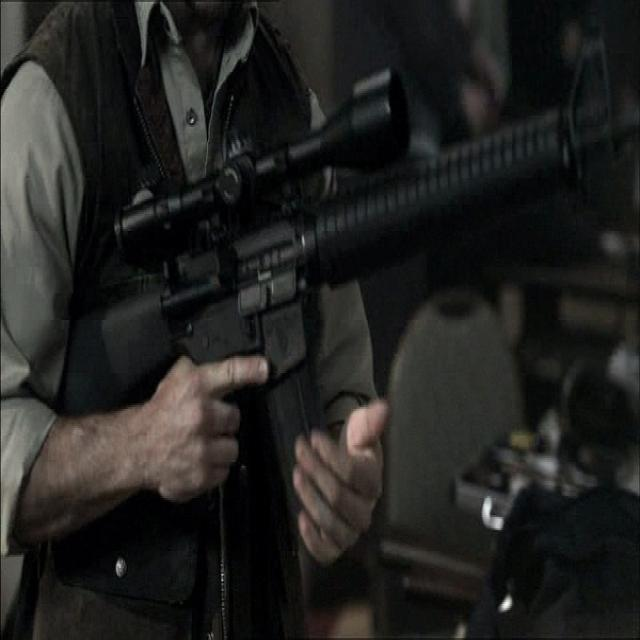rifle: (58, 31, 640, 548)
